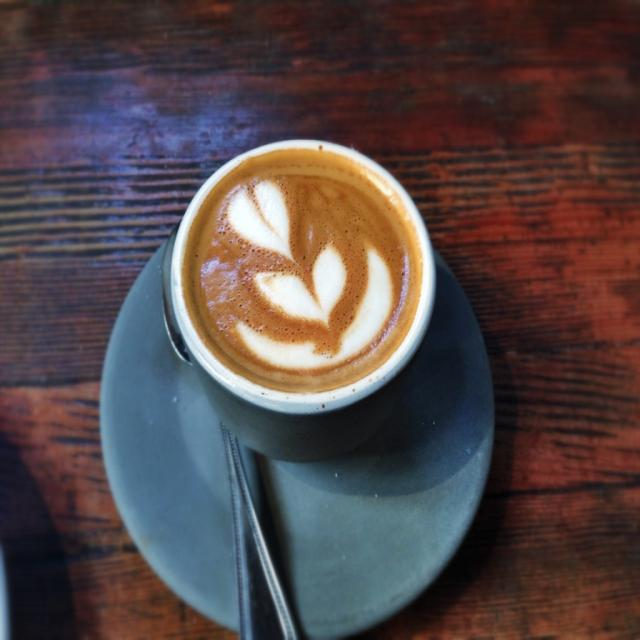Coffee: (188, 156, 420, 394)
